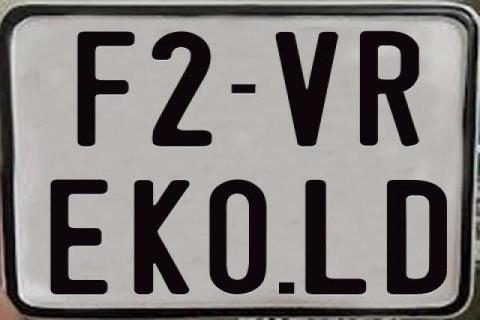0: (209, 178, 270, 296), (149, 31, 209, 149)
D: (384, 177, 444, 297)
E: (50, 177, 109, 292)
F: (76, 30, 134, 146)
K: (132, 179, 191, 297)
L: (302, 180, 363, 294)
R: (358, 30, 422, 148)
V: (273, 29, 337, 145)
